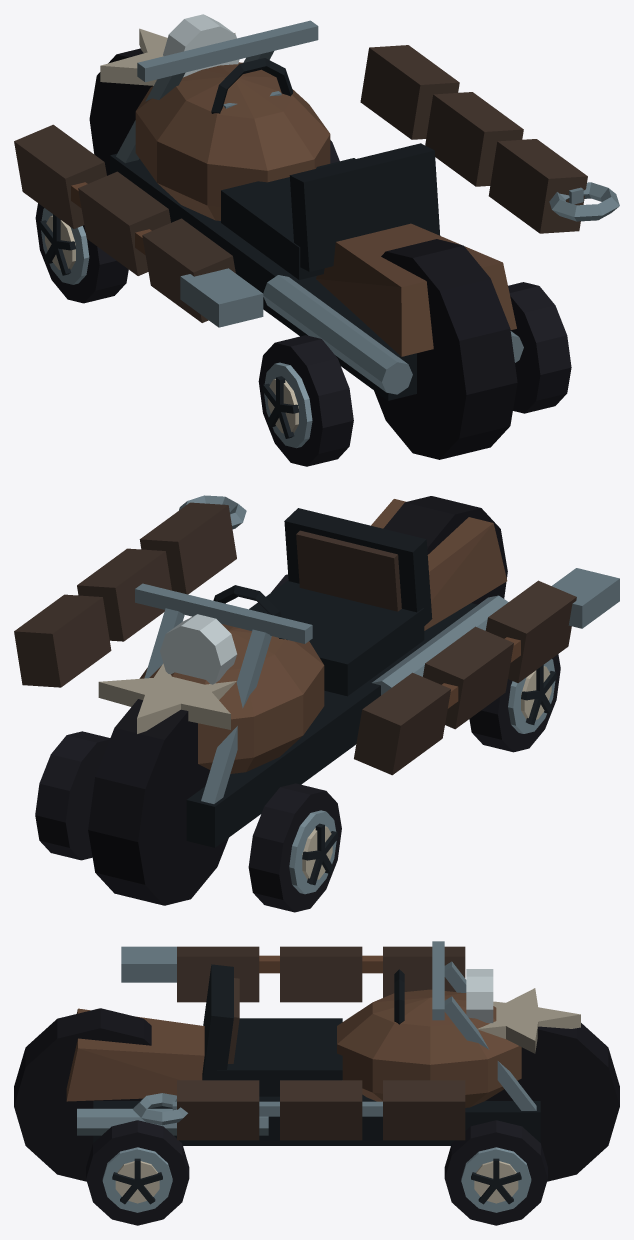
The model's file is kart.glb.
The picture shows the model from 3 angles, top to bottom: view 1: azimuth 30°, elevation 25°; view 2: azimuth 150°, elevation 25°; view 3: azimuth 270°, elevation 25°; orthographic projection. The views are drawn at different scales.
Visible parts, largest first — view 1: identity-motorbike-motorbike-tank-and-fork, identity-motorbike-motif-armor, identity-motorbike-driver-cockpit, wheel-rear-left, wheel-rear-right, identity-motorbike-motif-tools, wheel-front-left, identity-motorbike-motif-star; view 2: identity-motorbike-motorbike-tank-and-fork, identity-motorbike-motif-armor, identity-motorbike-driver-cockpit, wheel-front-left, wheel-front-right, wheel-rear-left, identity-motorbike-motif-star, identity-motorbike-motif-tools; view 3: identity-motorbike-motorbike-tank-and-fork, identity-motorbike-motif-armor, identity-motorbike-driver-cockpit, wheel-rear-right, wheel-front-right, identity-motorbike-motif-tools, identity-motorbike-motif-star.
Part boxes in pixels (box(x1,y1,x2,y2)): identity-motorbike-motorbike-tank-and-fork: box(89, 14, 523, 459); identity-motorbike-motif-armor: box(14, 45, 587, 322); identity-motorbike-driver-cockpit: box(211, 58, 440, 279); wheel-rear-left: box(258, 335, 353, 466); wheel-rear-right: box(508, 282, 571, 413); identity-motorbike-motif-tools: box(71, 182, 619, 327); wheel-front-left: box(35, 203, 128, 303); identity-motorbike-motif-star: box(100, 28, 235, 85); identity-motorbike-motorbike-tank-and-fork: box(88, 496, 508, 905); identity-motorbike-motif-armor: box(14, 502, 576, 775); identity-motorbike-driver-cockpit: box(213, 508, 432, 696); wheel-front-left: box(248, 783, 341, 912); wheel-front-right: box(35, 731, 110, 860); wheel-rear-left: box(469, 654, 560, 752); identity-motorbike-motif-star: box(98, 663, 236, 733); identity-motorbike-motif-tools: box(179, 495, 619, 708); identity-motorbike-motorbike-tank-and-fork: box(14, 941, 619, 1181); identity-motorbike-motif-armor: box(177, 946, 465, 1140); identity-motorbike-driver-cockpit: box(202, 964, 404, 1096); wheel-rear-right: box(86, 1120, 189, 1225); wheel-front-right: box(444, 1120, 547, 1225); identity-motorbike-motif-tools: box(121, 946, 382, 1125); identity-motorbike-motif-star: box(477, 988, 580, 1053).
Bounding box in the file's own units: 1.91 × 1.09 × 2.94.
